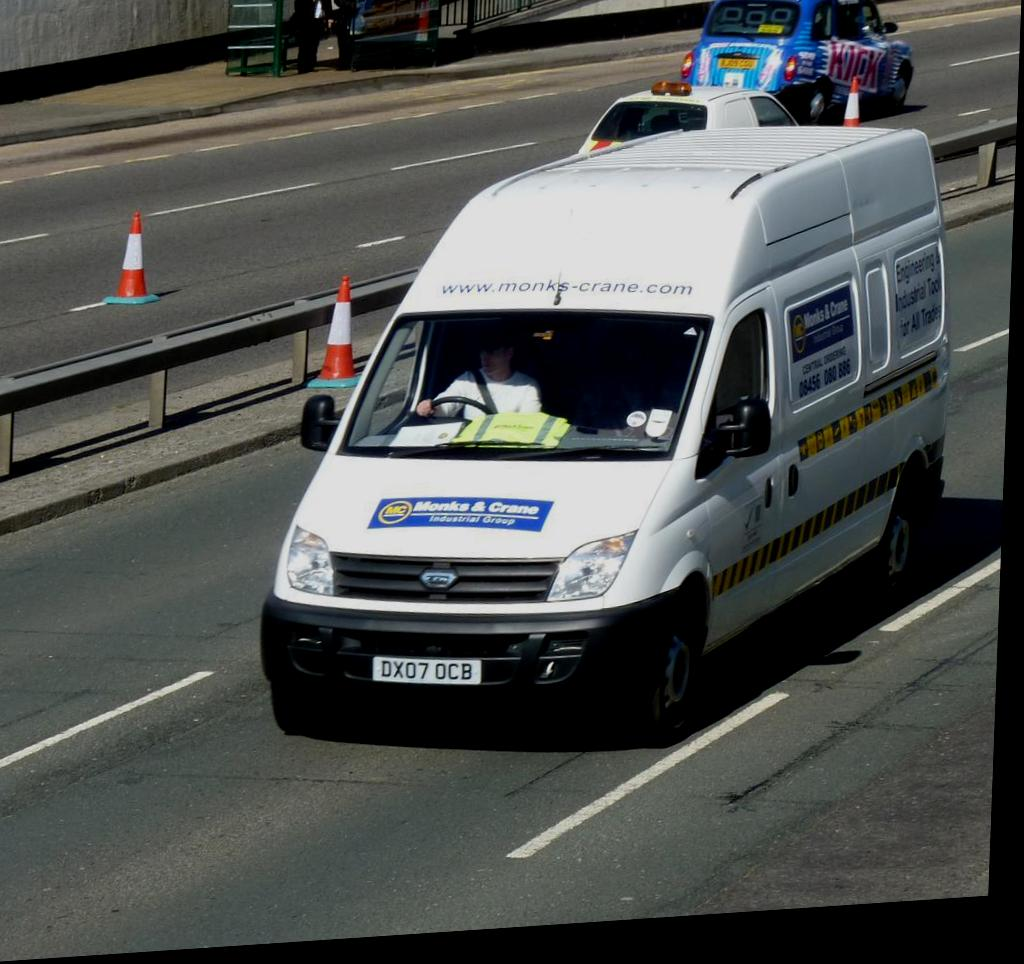License_Plate: (372, 655, 481, 687)
